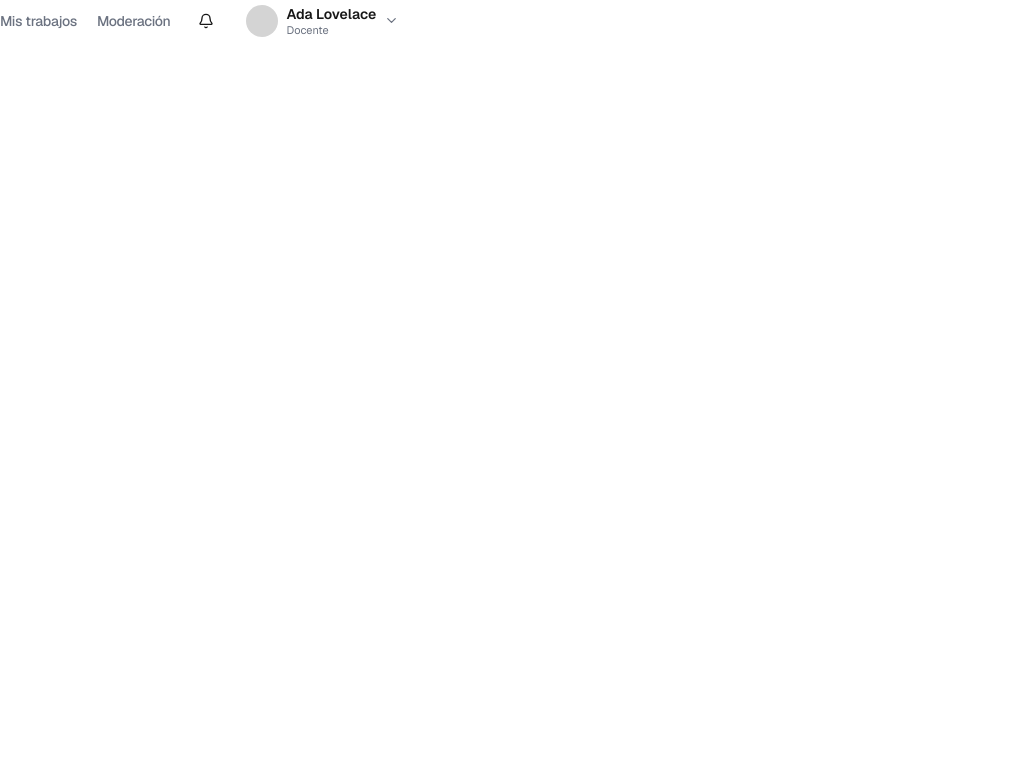
Test: AuthNav › authenticated: shows name + role and exposes logout in the menu
Expected: the text "Docente" is shown, [286, 23, 329, 37]
Expected: the text "Ada Lovelace" is shown, [286, 4, 376, 24]
Click the button "Ada Lovelace Docente".
click(324, 21)  # box [242, 0, 405, 42]
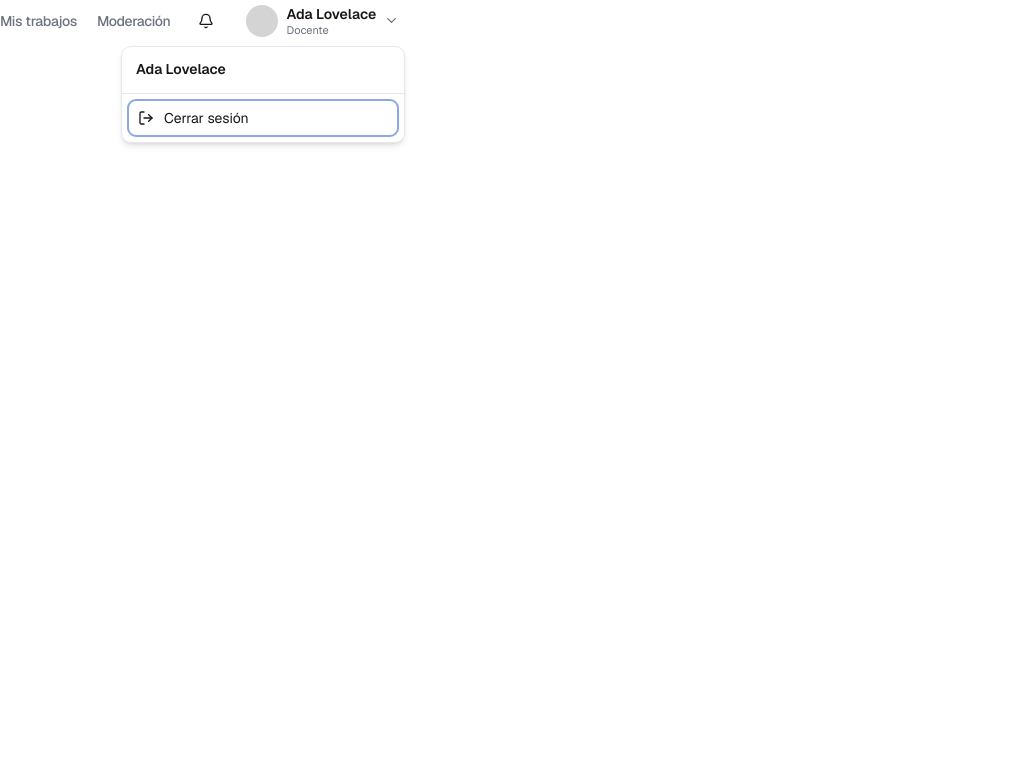
Now the button "Cerrar sesión" is shown, box [128, 100, 398, 136]
